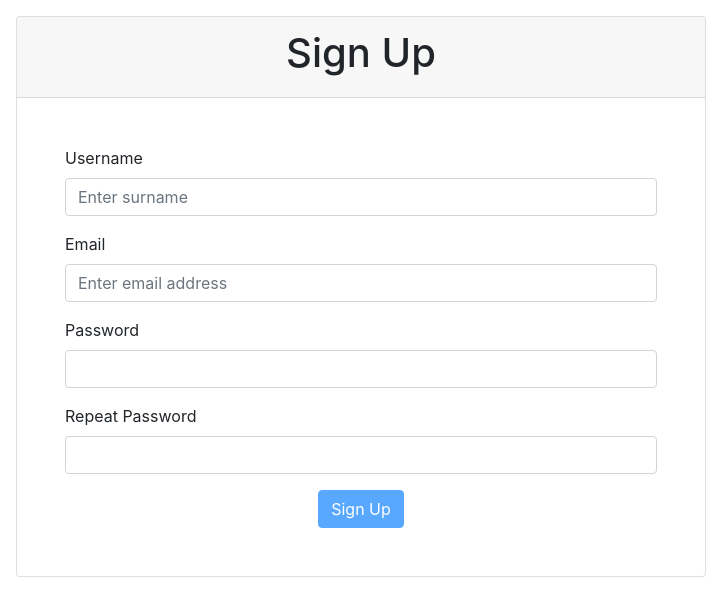
Scenario: Sign Up Page › Form Interaction › will enable Sign Up button when Password ad Repeated Password are the same
This screenshot has width=723, height=594.
In the password field labelled "Password": [361, 369] box [65,350,657,388], type "testPassword"
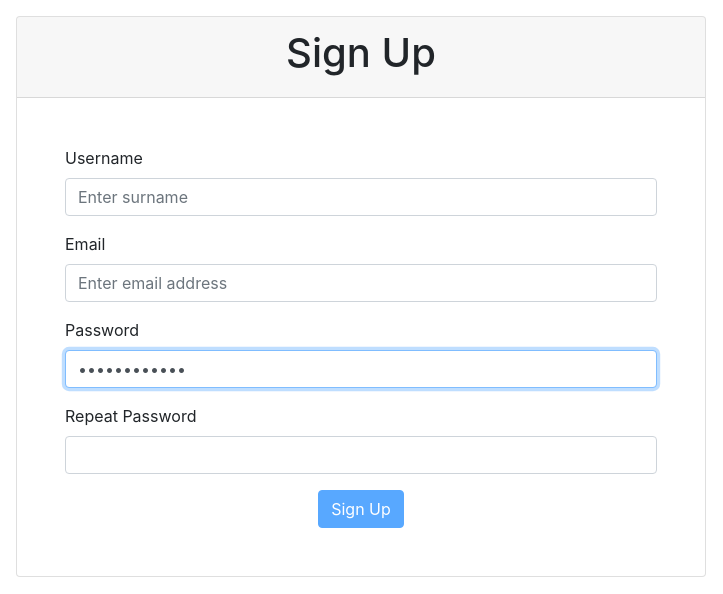
In the password field labelled "Repeat Password": [361, 455] box [65,436,657,474], type "testPassword"
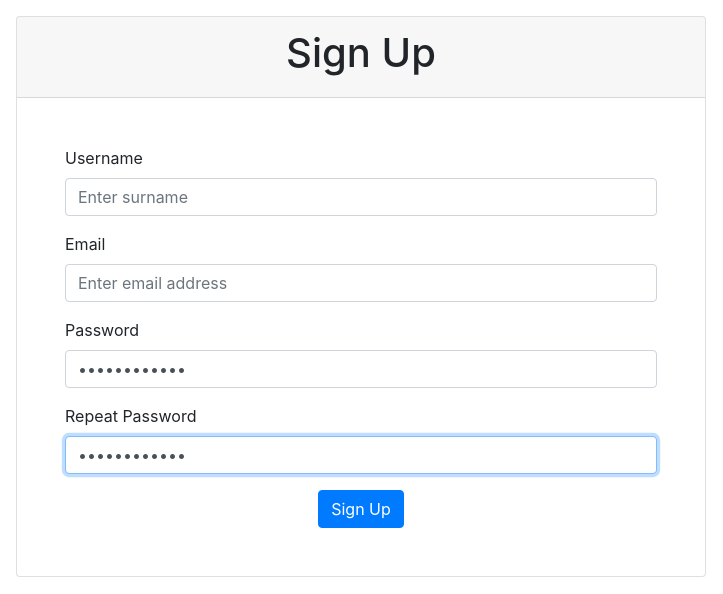
Check: the button "Sign Up" is enabled, box [318,490,404,528]
